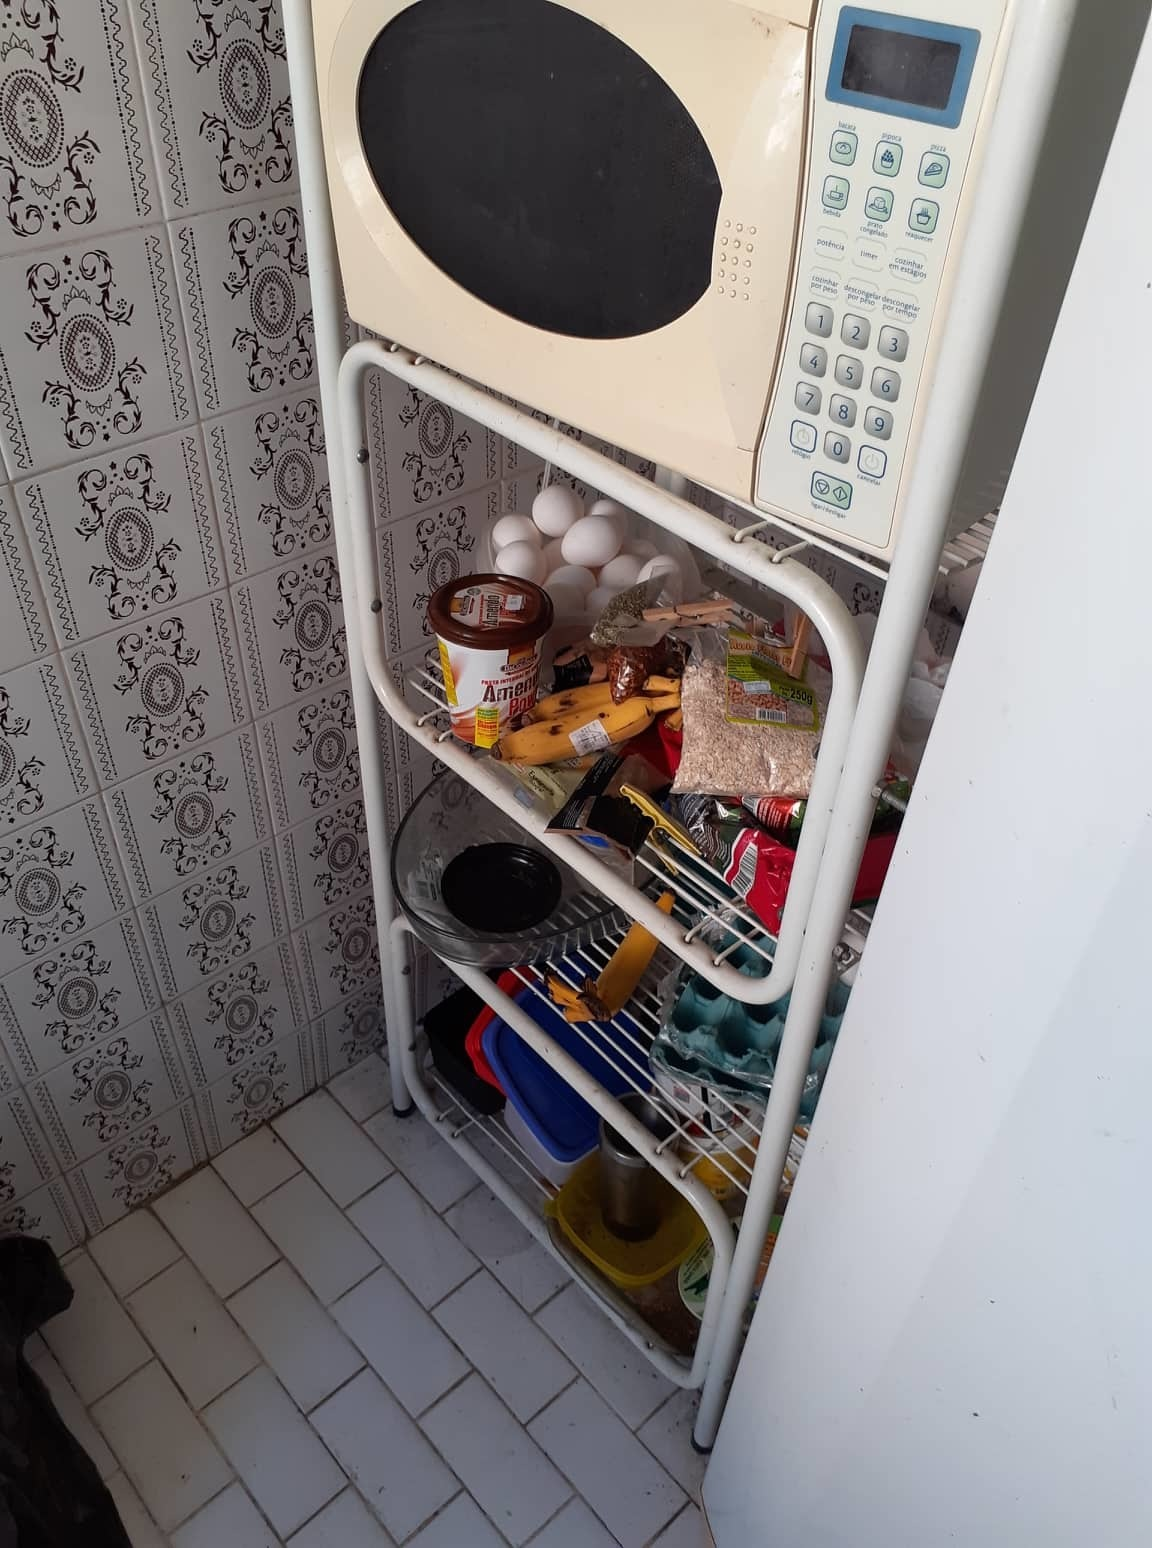banana: (520, 645, 651, 783), (575, 898, 675, 1028)
